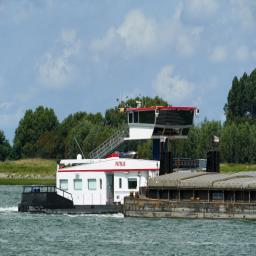tugboat: (17, 100, 224, 223)
